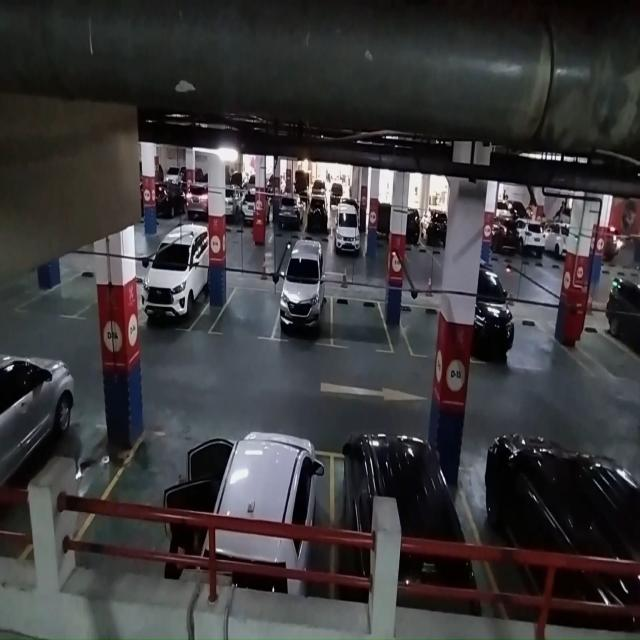empty: (216, 285, 276, 340), (331, 294, 385, 354), (400, 301, 440, 359)
occupied: (193, 438, 333, 592), (332, 454, 473, 598), (141, 242, 209, 332), (277, 263, 328, 346)
